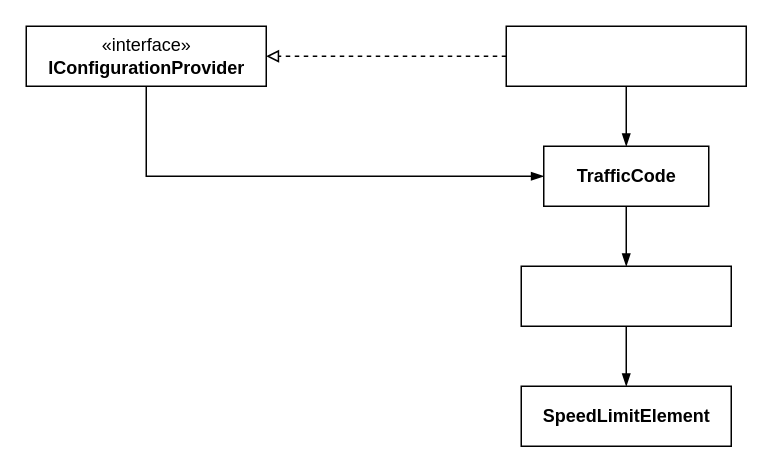
Some shapes in this 773 by 473 pixel diagram are drawn without their labels. The centre of each missing label's shape, as x and y in pixels:
ConfigurationProvider: point 625,55
SpeedLimitCollection: point 625,295
